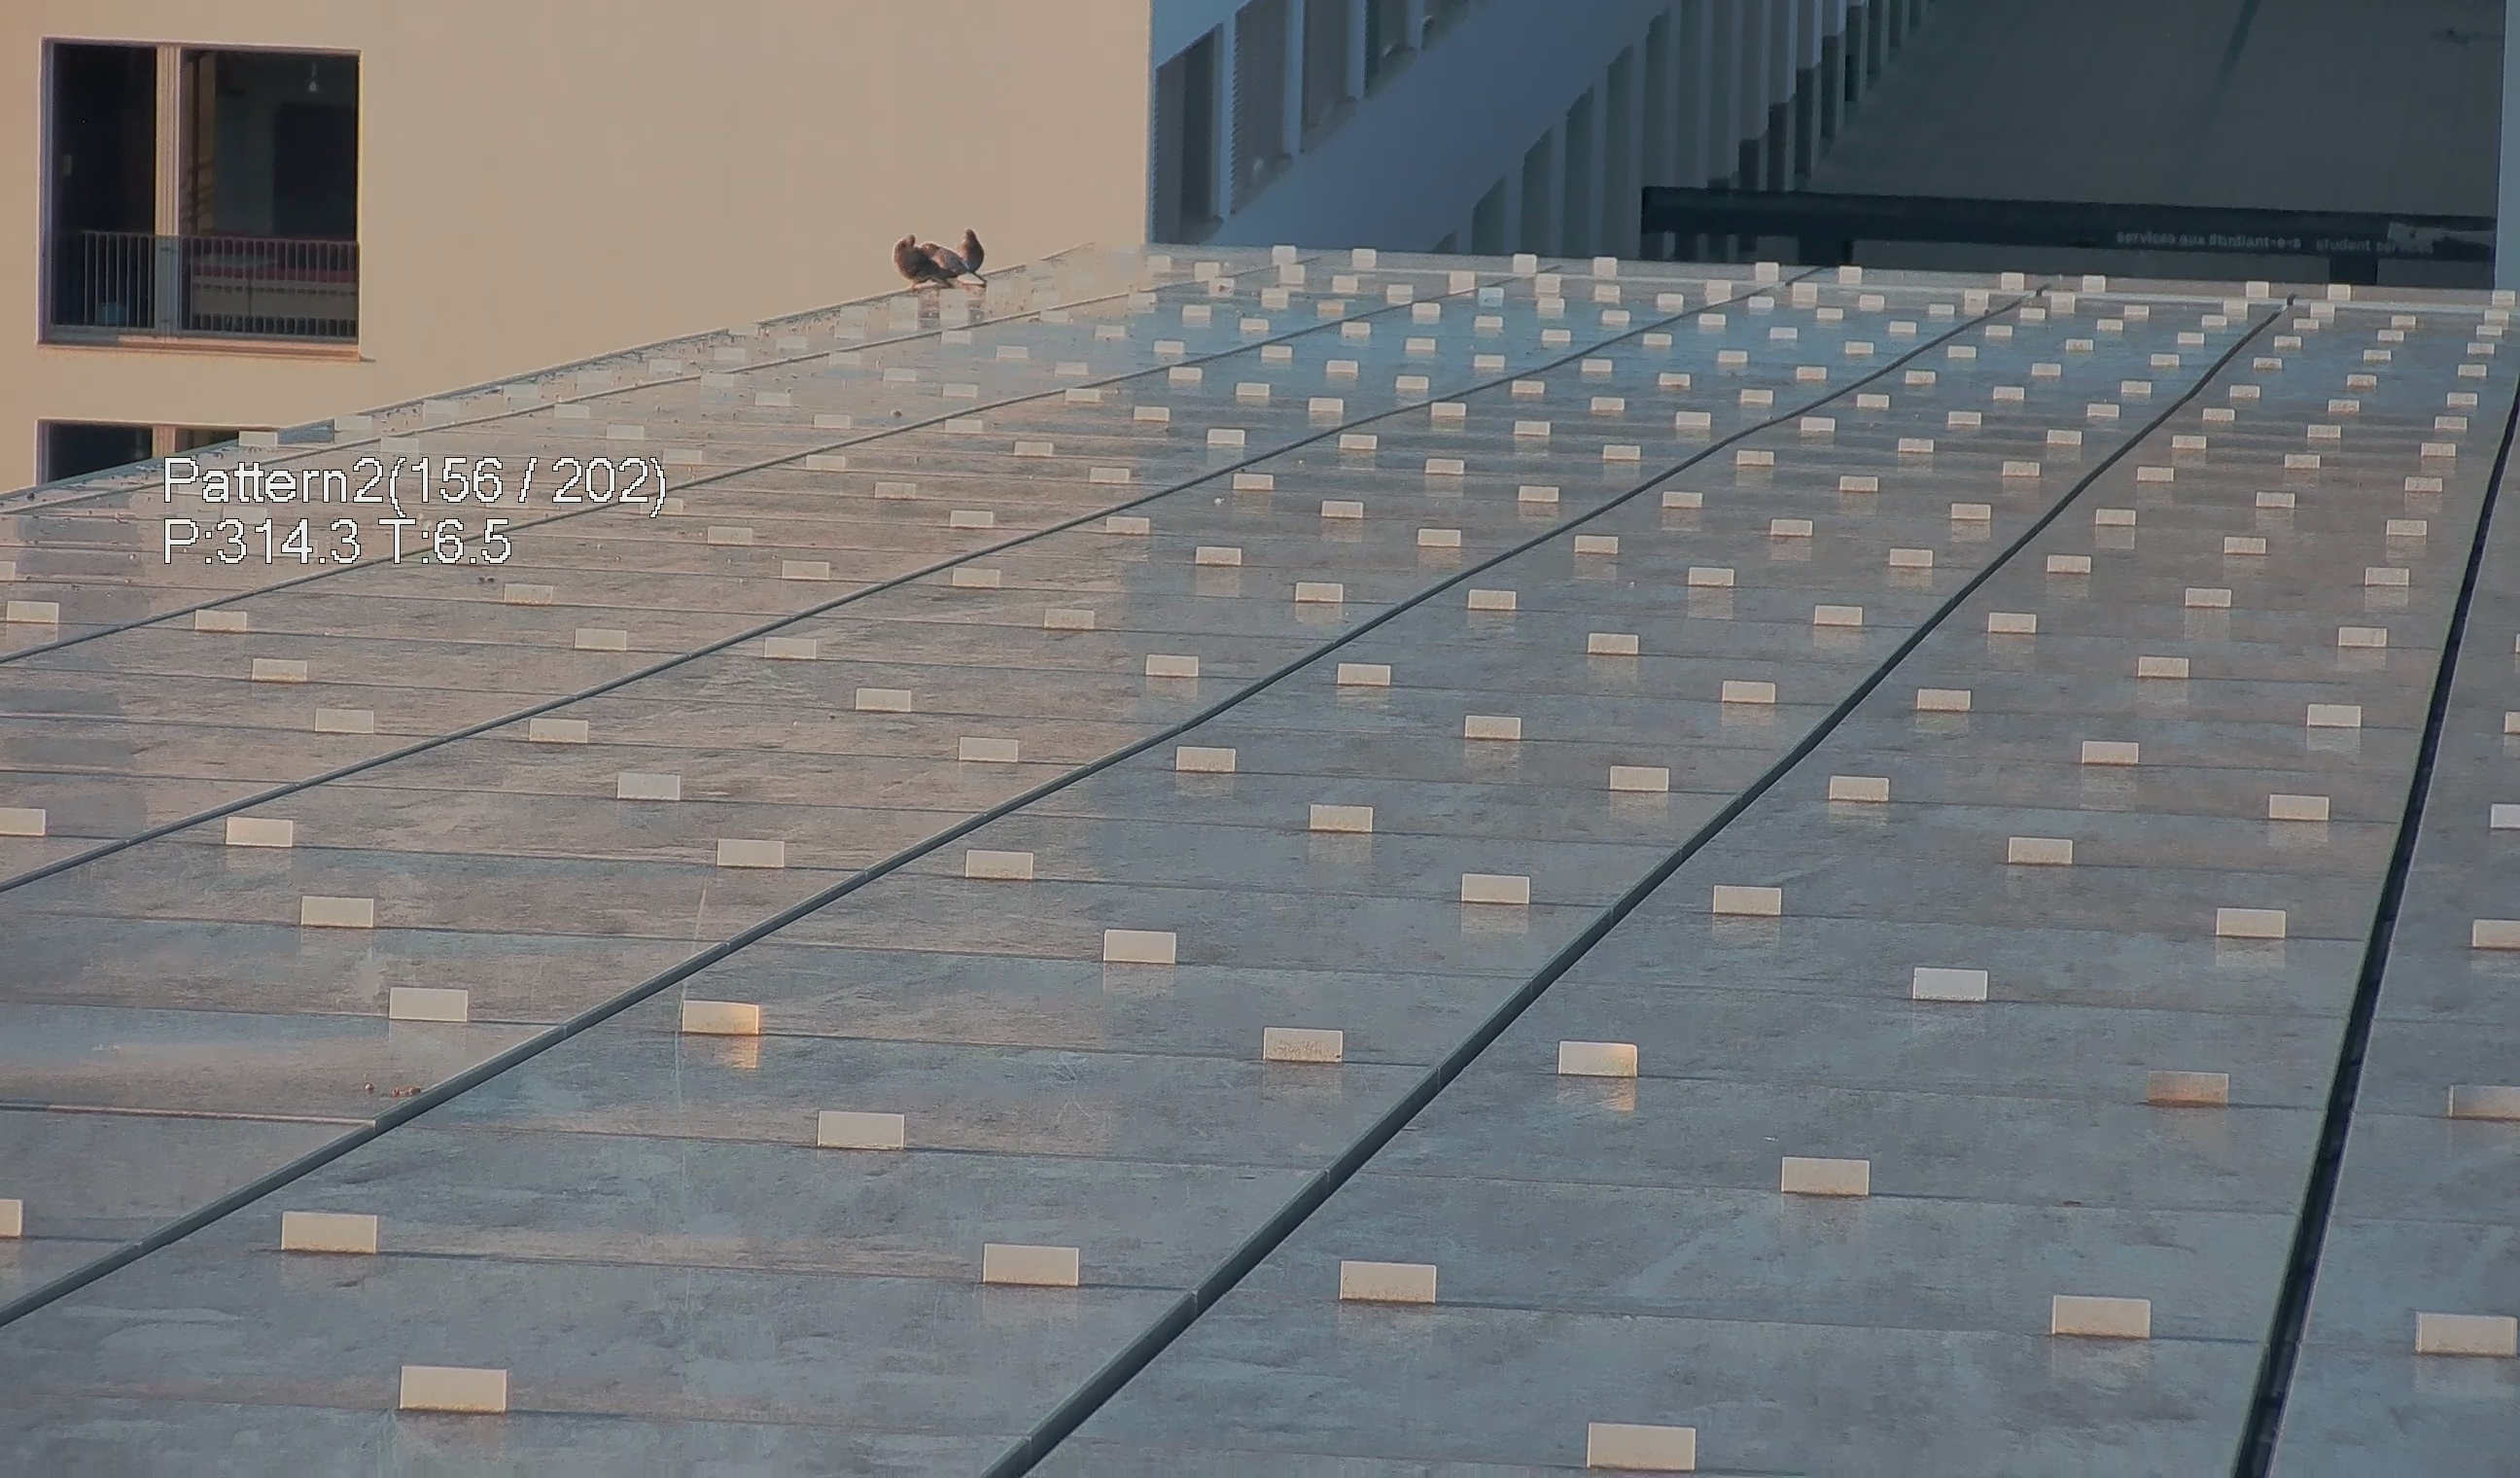Pigeon: (890, 232, 953, 285), (921, 243, 988, 283), (951, 227, 983, 280)
